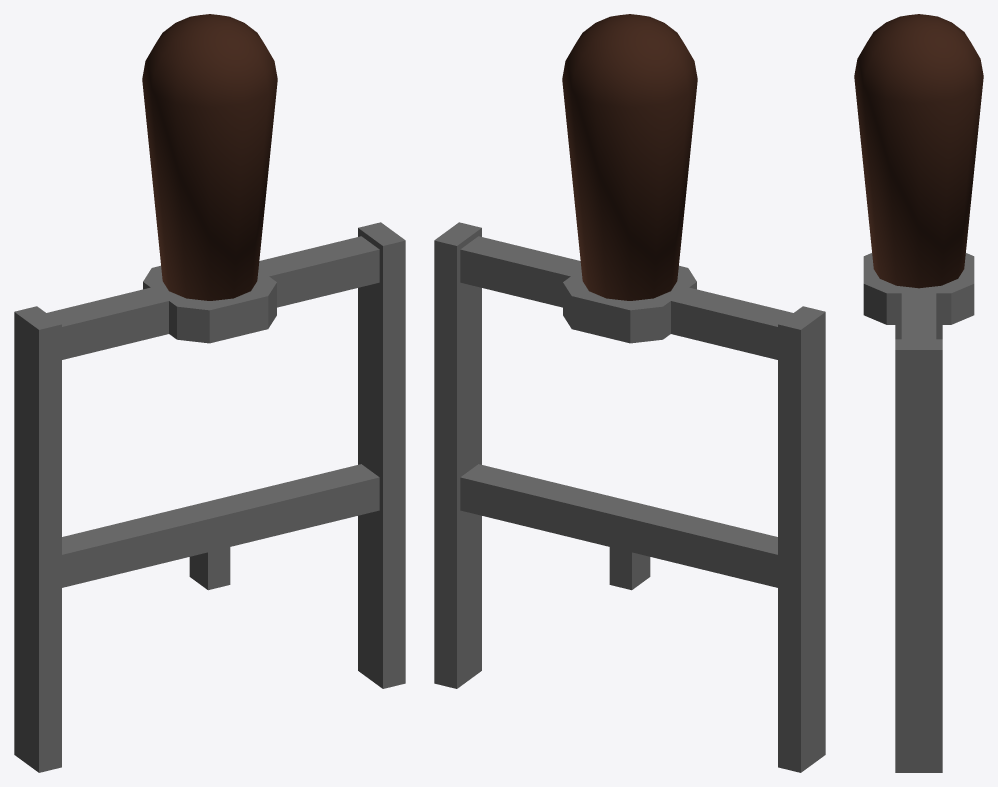
Rendered from obj_PowerSwitch_Handle.fbx.
The picture shows the model from 3 angles, left to right: view 1: azimuth 30°, elevation 25°; view 2: azimuth 150°, elevation 25°; view 3: azimuth 270°, elevation 25°; orthographic projection. The views are drawn at different scales.
Visible parts, largest first — view 1: Handle; view 2: Handle; view 3: Handle.
Boxes of the visible parts, x1,y1,x2,y2 form: Handle: (14, 14, 405, 772); Handle: (434, 14, 825, 772); Handle: (854, 14, 983, 772).
Size of the model in its own units: 0.1362 by 0.2481 by 0.0436.
